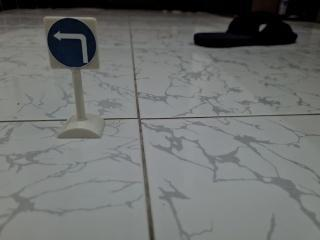left: (43, 14, 104, 73)
